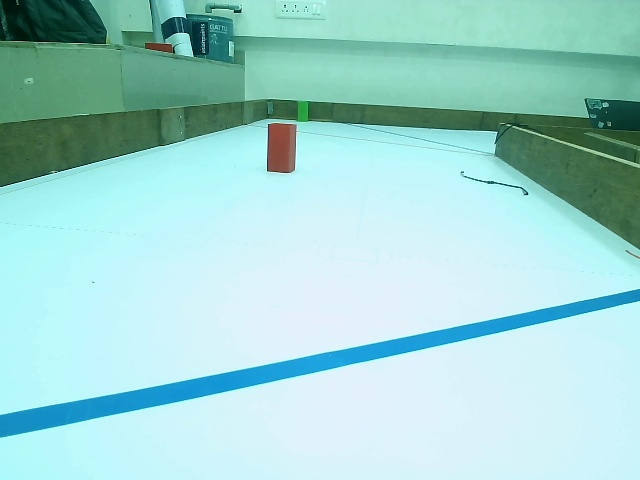red: (267, 121, 300, 177)
